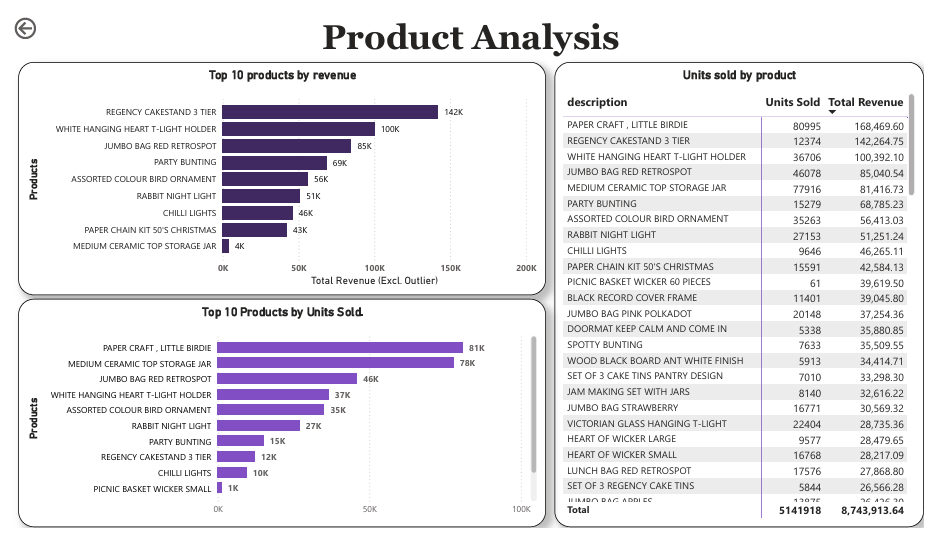

What the dashboard file says about the page in this screenshot:
{"tool":"powerbi","page":{"name":"Product_Analysis","canvas":[1280,720],"ordinal":2},"visuals":[{"type":"textbox","box":[9.5,0,1270.4,79.4],"z":0},{"type":"actionButton","box":[0,0,100,40],"z":1000},{"type":"clusteredBarChart","title":"Top 10 products by revenue","fields":{"Category":["Transactions.description"],"Y":["_Measures.Total Revenue (Excl. Outlier)"]},"box":[9.5,66.7,740,327.1],"z":2000},{"type":"pivotTable","title":"Units sold by product","fields":{"Rows":["Transactions.description"],"Values":["_Measures.Units Sold","_Measures.Total Revenue"]},"box":[762.2,66.7,517.7,652.7],"z":3000},{"type":"clusteredBarChart","title":"Top 10 Products by Units Sold.","fields":{"Category":["Transactions.description"],"Y":["_Measures.Units Sold"]},"box":[9.5,398.6,740,320.8],"z":4000}]}

Visuals, with their boxes in screenshot pixels (x1, y1, x2, y2), scaled from the page's 1280x720 canvas onto the 938x533 screenshot:
textbox: (7, 0, 937, 59)
actionButton: (0, 0, 73, 30)
"Top 10 products by revenue" clusteredBarChart: (7, 49, 549, 292)
"Units sold by product" pivotTable: (559, 49, 937, 532)
"Top 10 Products by Units Sold." clusteredBarChart: (7, 295, 549, 532)
